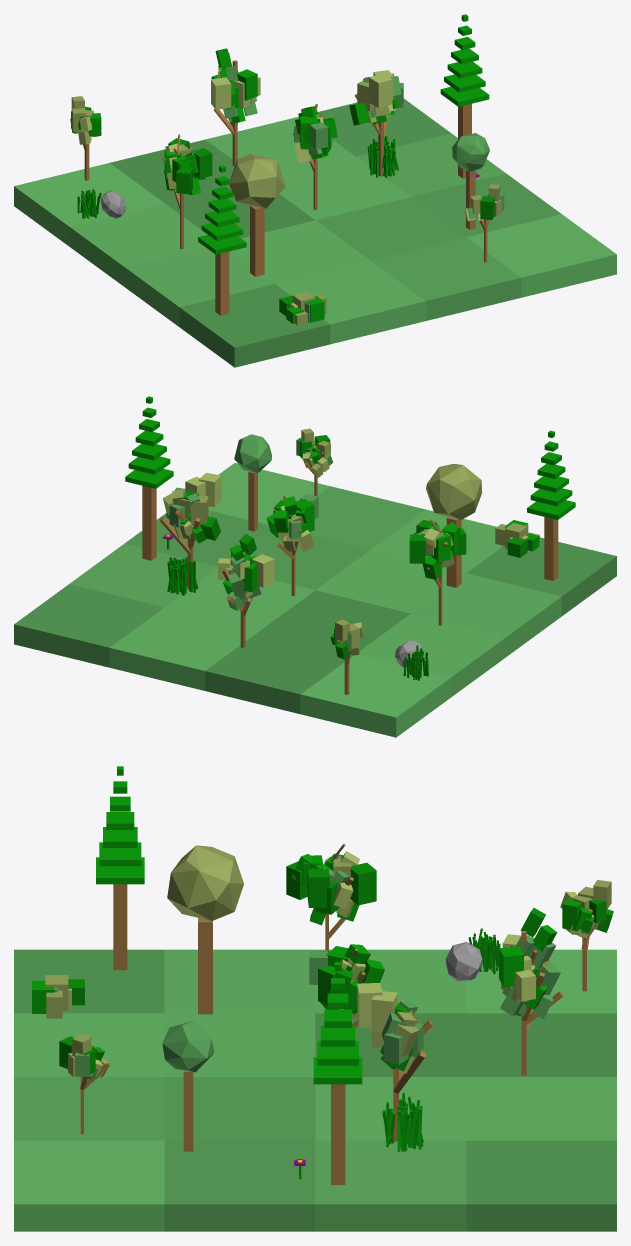
Rendered from forest.glb.
The picture shows the model from 3 angles, top to bottom: view 1: azimuth 30°, elevation 25°; view 2: azimuth 150°, elevation 25°; view 3: azimuth 270°, elevation 25°; orthographic projection. The views are drawn at different scales.
Parts seen in each view (by area): view 1: world; view 2: world; view 3: world.
Boxes of the visible parts, bbox=[...] form: world: bbox=[14, 14, 616, 367]; world: bbox=[14, 396, 616, 737]; world: bbox=[14, 766, 616, 1231].
Size of the model in its own units: 4 by 1.8 by 4.
